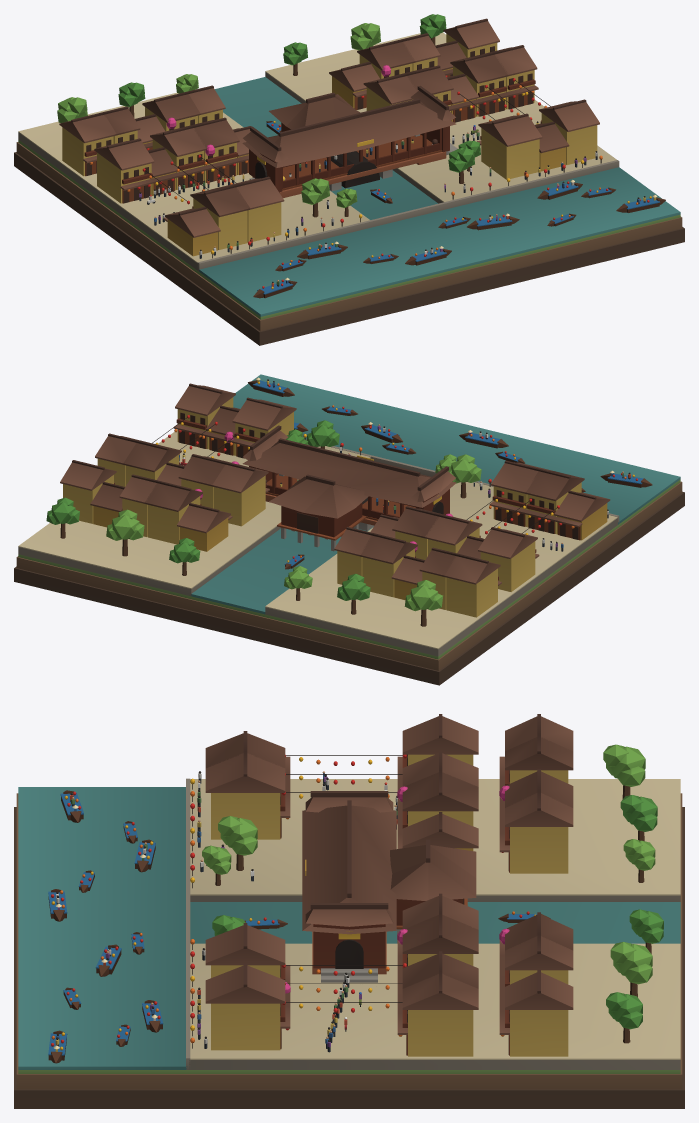
The model's file is pho-co-hoi-an.glb.
3 renders of one model, top to bottom at view 1: azimuth 30°, elevation 25°; view 2: azimuth 150°, elevation 25°; view 3: azimuth 270°, elevation 25°, orthographic. The views are drawn at different scales.
Parts seen in each view (by area): view 1: CC_CC_bank; view 2: CC_CC_bank; view 3: CC_CC_bank.
Boxes of the visible parts, box(x1,y1,x2,y2) form: CC_CC_bank: box(14, 14, 684, 345); CC_CC_bank: box(14, 374, 684, 685); CC_CC_bank: box(14, 714, 684, 1108).
Size of the model in its own units: 92 by 18.17 by 92.
Materials: 1 (1 with a texture image).
